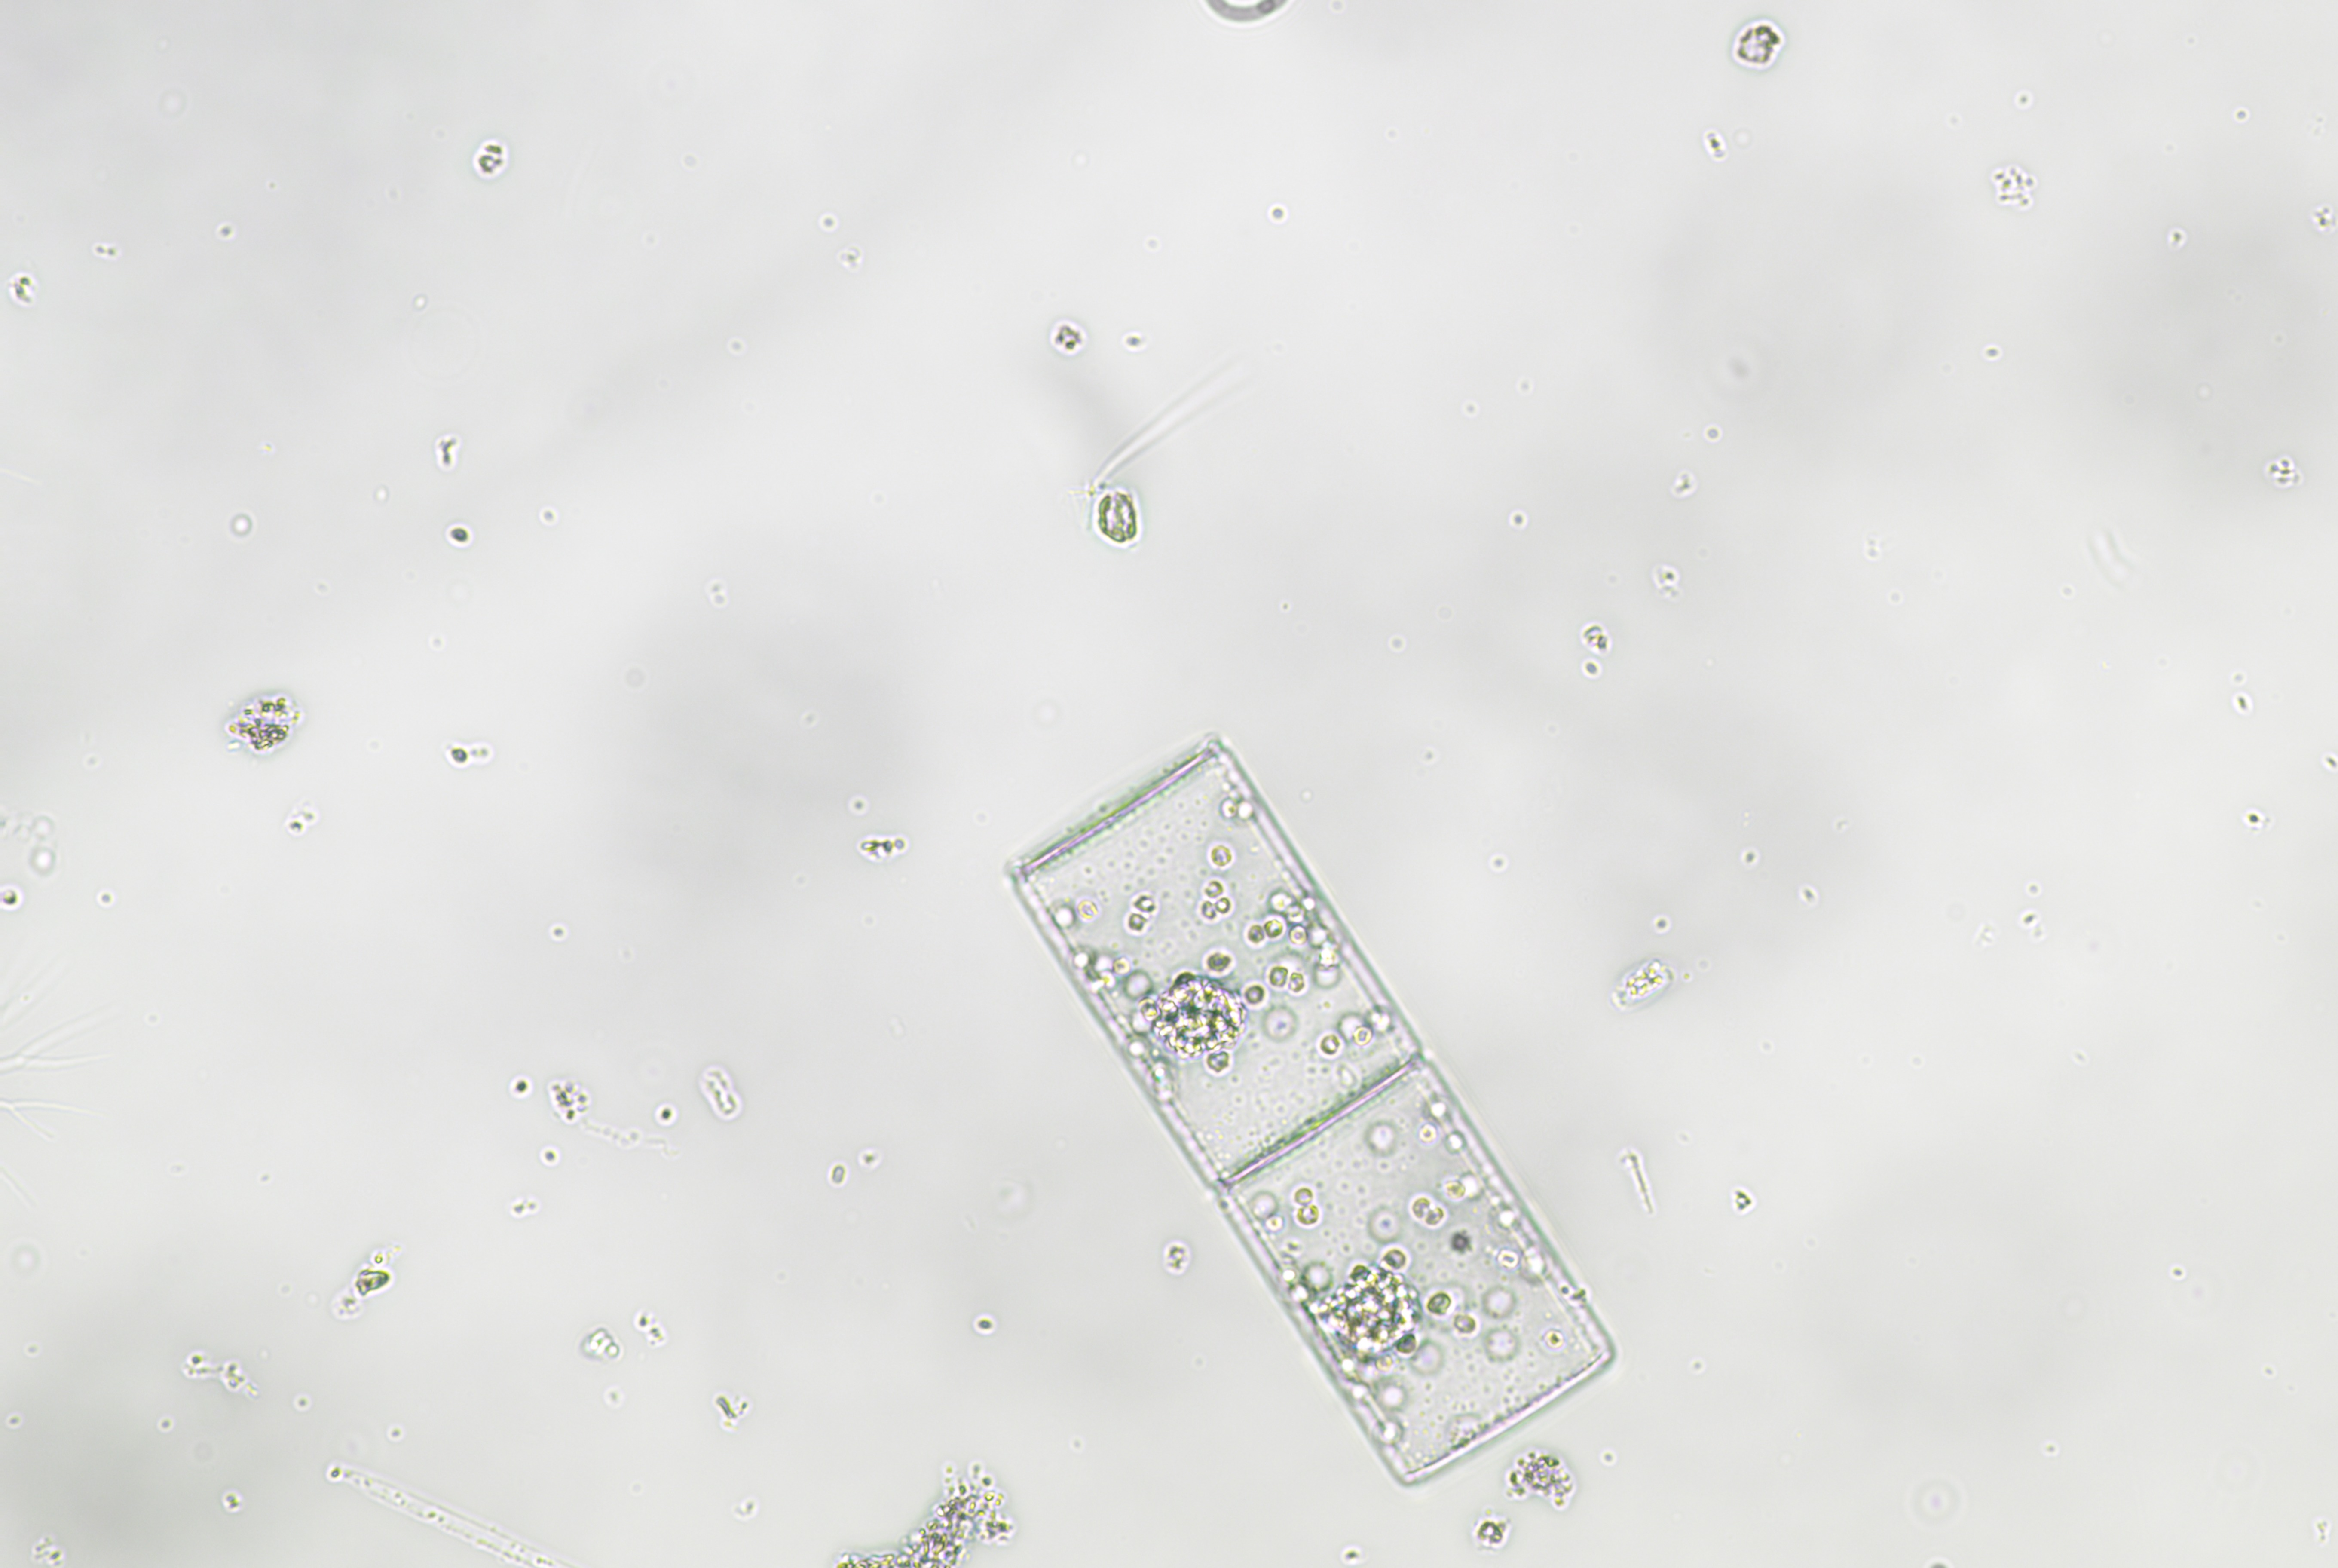guinardia flaccida: (999, 705, 1642, 1489)
